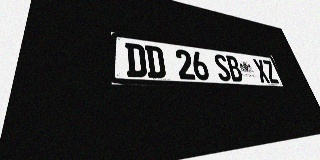2: (174, 49, 196, 80)
6: (190, 51, 210, 80)
B: (225, 55, 244, 82)
D: (125, 42, 147, 78), (145, 45, 166, 78)
S: (212, 54, 232, 81)
X: (252, 59, 271, 83)
Z: (262, 60, 280, 83)
